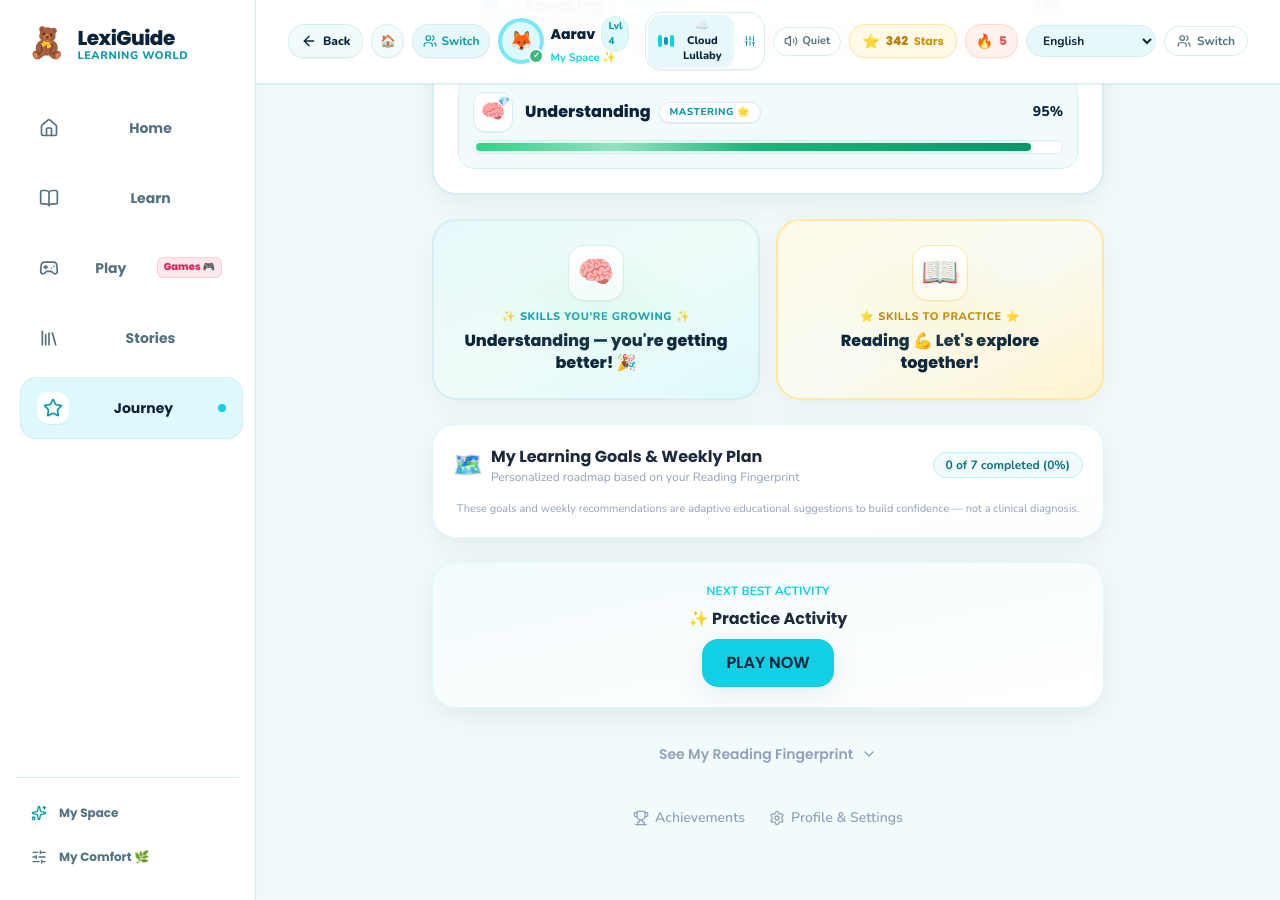
Scenario: Step 4: Child Portal Real Backend Integration Test Suite › 7. Fingerprint history/radar displays real backend fingerprint values (snake_case normalized)
The width and height of the screenshot is (1280, 900).
(page scrolled)
Click the button "See My Reading Fingerprint": (768, 754) [432,732,1104,776]
(page scrolled)
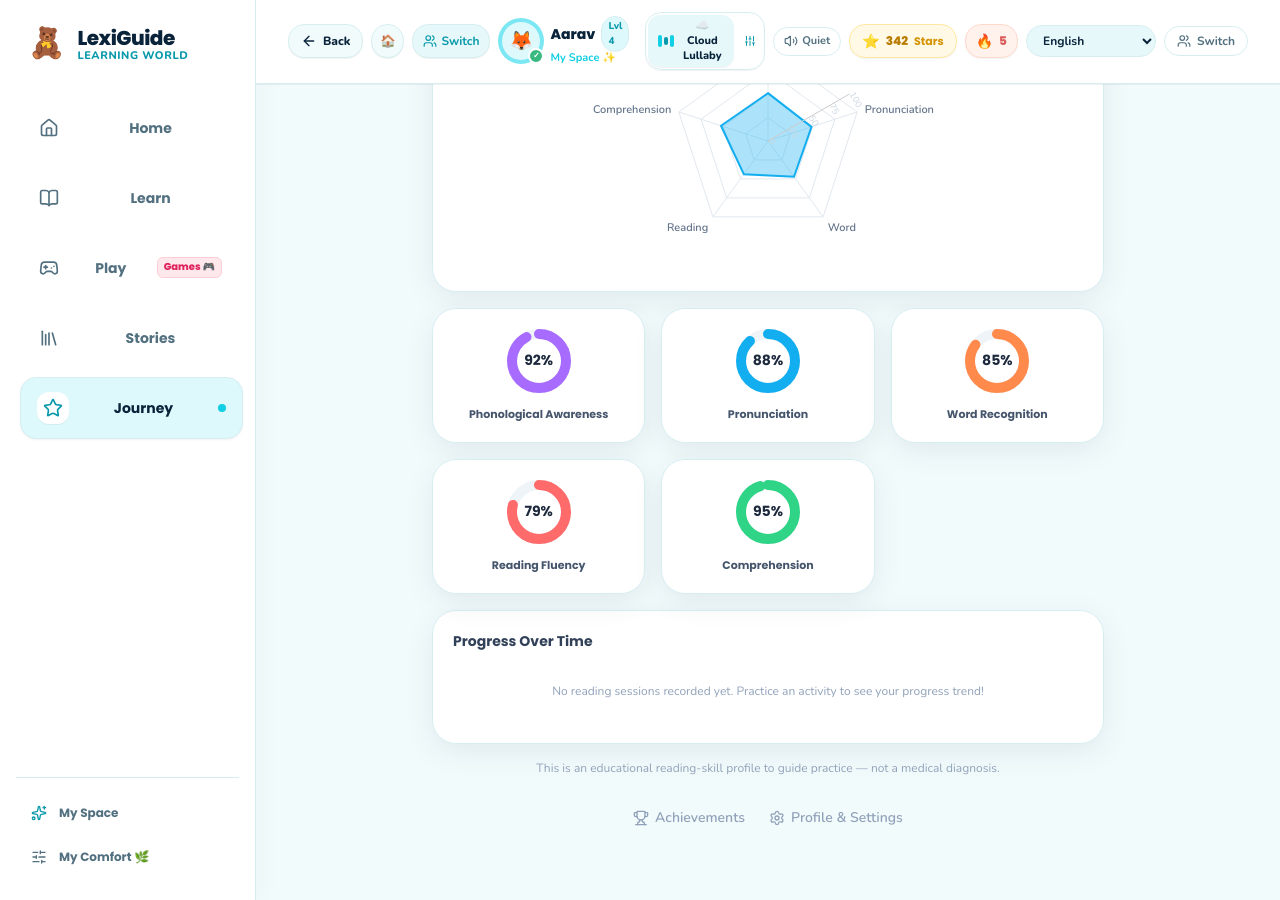
expect the text "Progress Over Time" is shown: met, box [453,630,593,650]
expect the text "educational reading-skill profile" is shown: met, box [536,760,1000,776]
